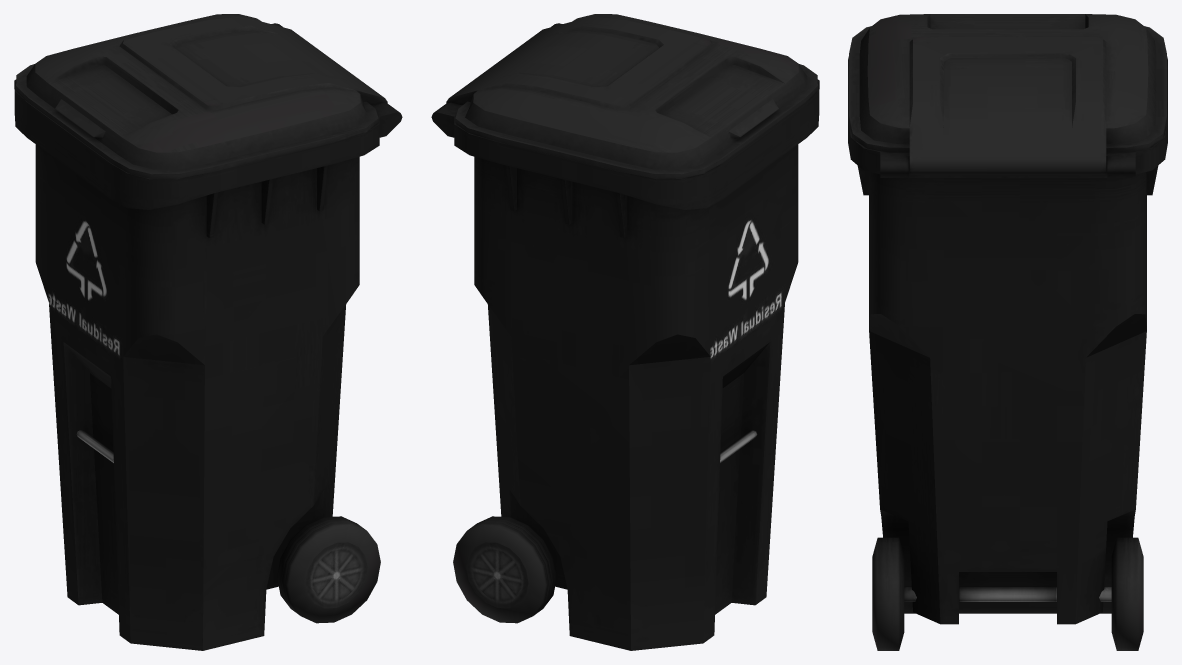
The picture shows the model from 3 angles, left to right: view 1: azimuth 30°, elevation 25°; view 2: azimuth 150°, elevation 25°; view 3: azimuth 270°, elevation 25°; orthographic projection. The views are drawn at different scales.
Parts seen in each view (by area): view 1: TrashCan_Black; view 2: TrashCan_Black; view 3: TrashCan_Black.
Boxes of the visible parts, box(x1,y1,x2,y2) form: TrashCan_Black: box(14, 14, 402, 650); TrashCan_Black: box(431, 14, 819, 650); TrashCan_Black: box(848, 14, 1167, 650).
Size of the model in its own units: 60.83 by 113 by 58.96.
1 material, 1 textured.
